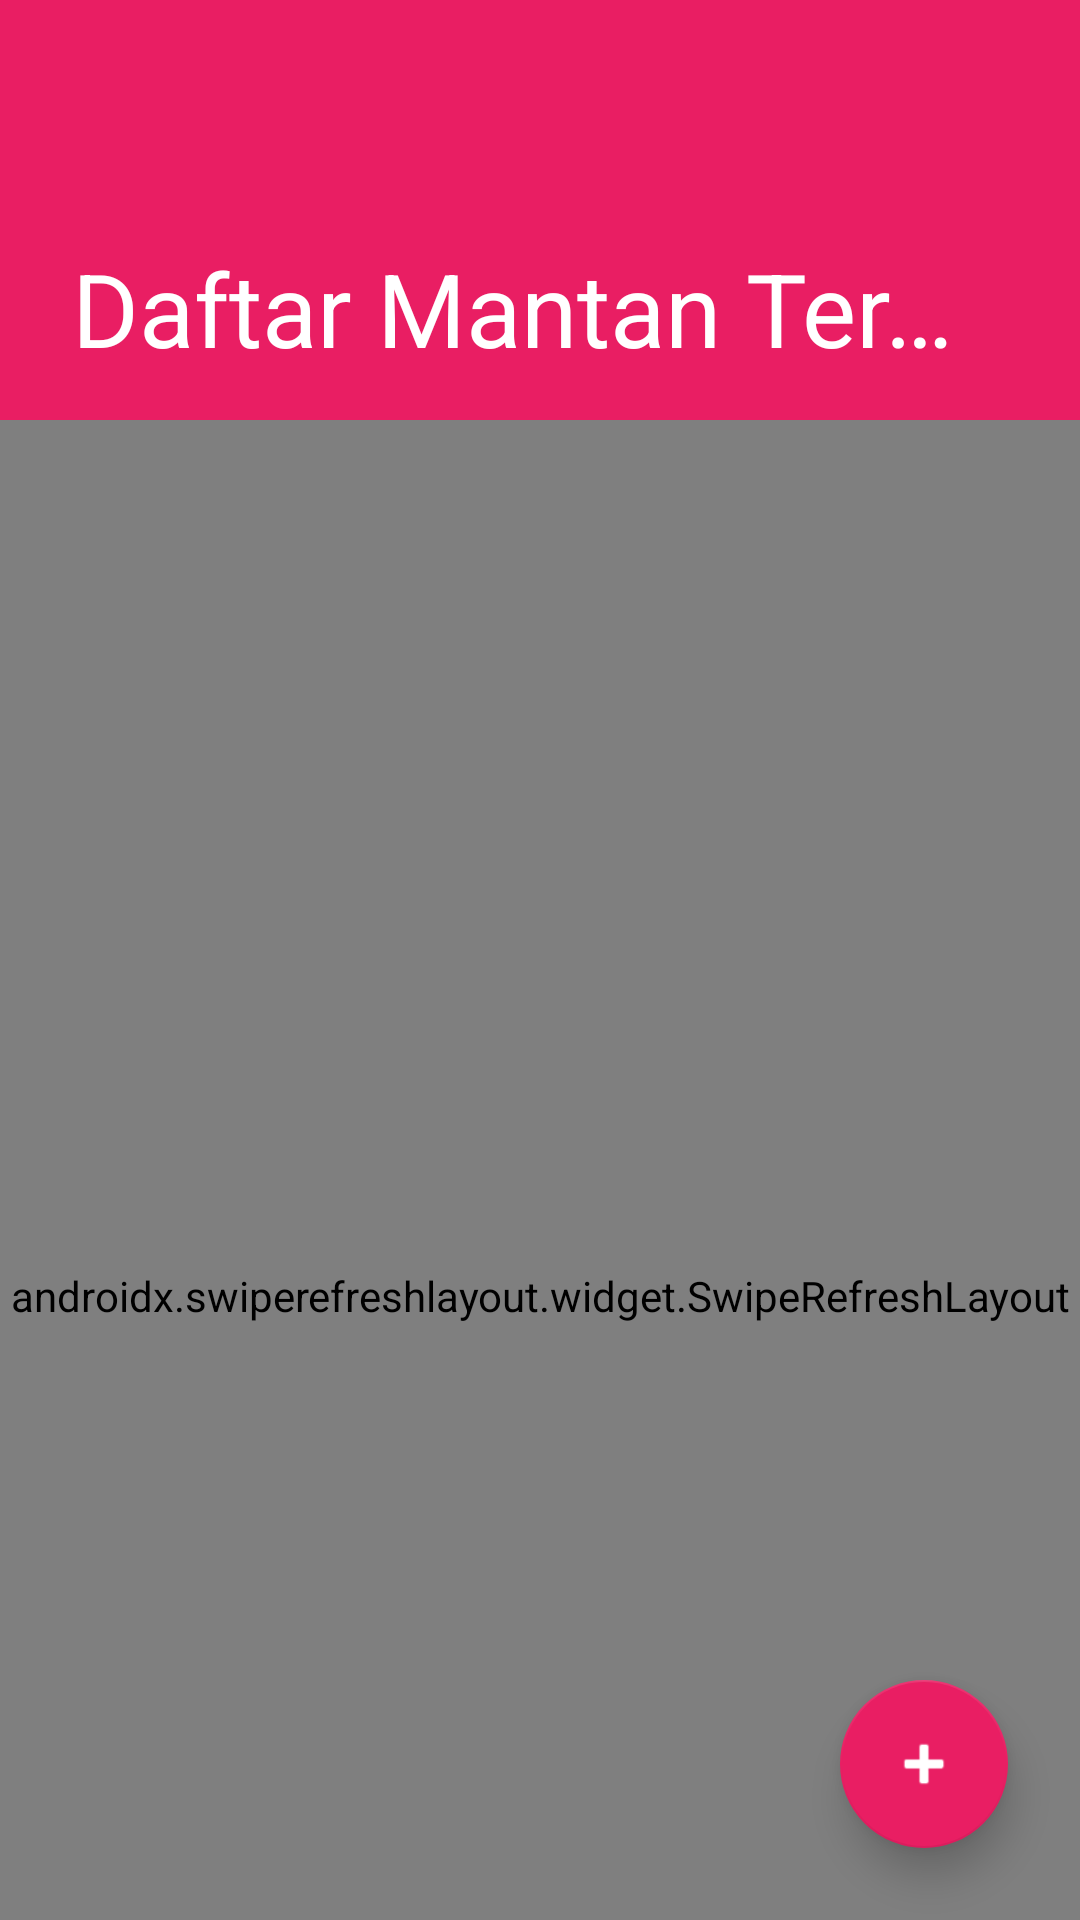

Named icons in this screenshot (1080 x 1920) and their bounding boxes, box=[x1, y1, x2, y2]:
Tambah Mantan: box=[840, 1680, 1008, 1848]
